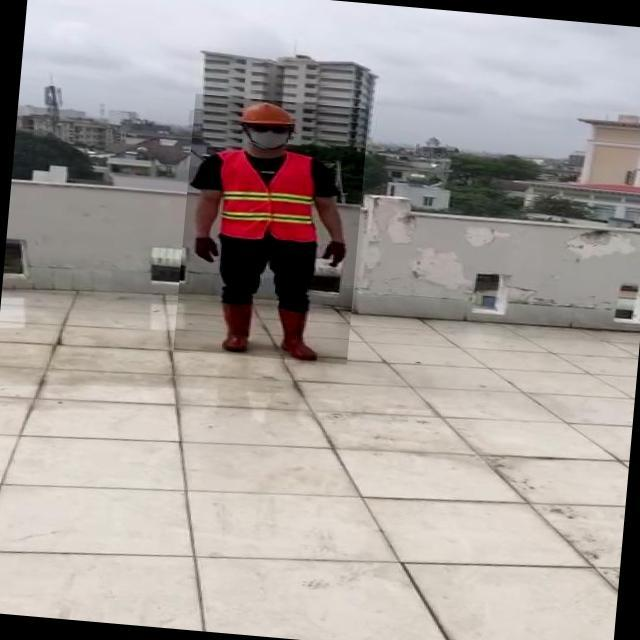Gloves: (191, 234, 221, 266), (319, 243, 345, 271)
Helmet: (236, 101, 296, 130)
Human: (173, 94, 369, 366)
Safety Boot: (272, 306, 324, 362), (214, 299, 257, 355)
Safety Vest: (206, 148, 327, 248)
